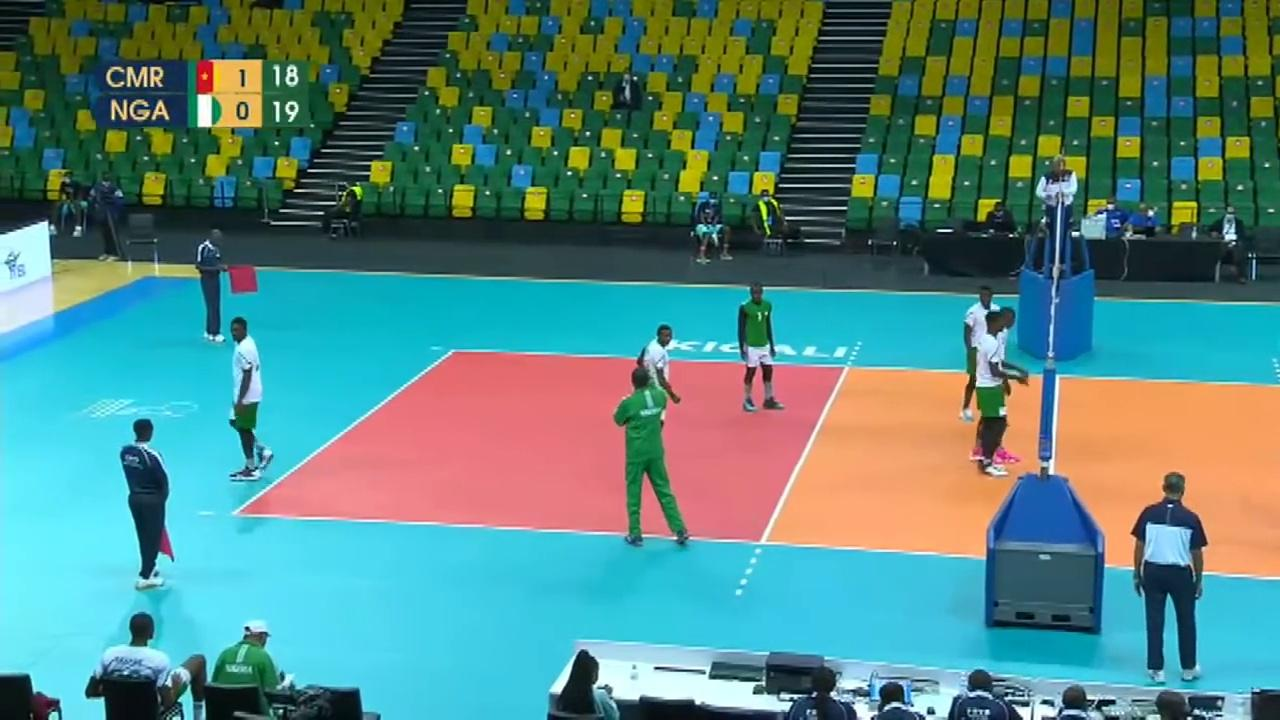player: (975, 308, 1027, 463), (975, 312, 1018, 481), (230, 321, 272, 475), (961, 286, 1006, 423), (736, 284, 781, 408), (638, 321, 678, 435)
refree: (1132, 469, 1214, 687), (120, 422, 175, 585), (191, 228, 228, 343), (1039, 156, 1076, 261)
